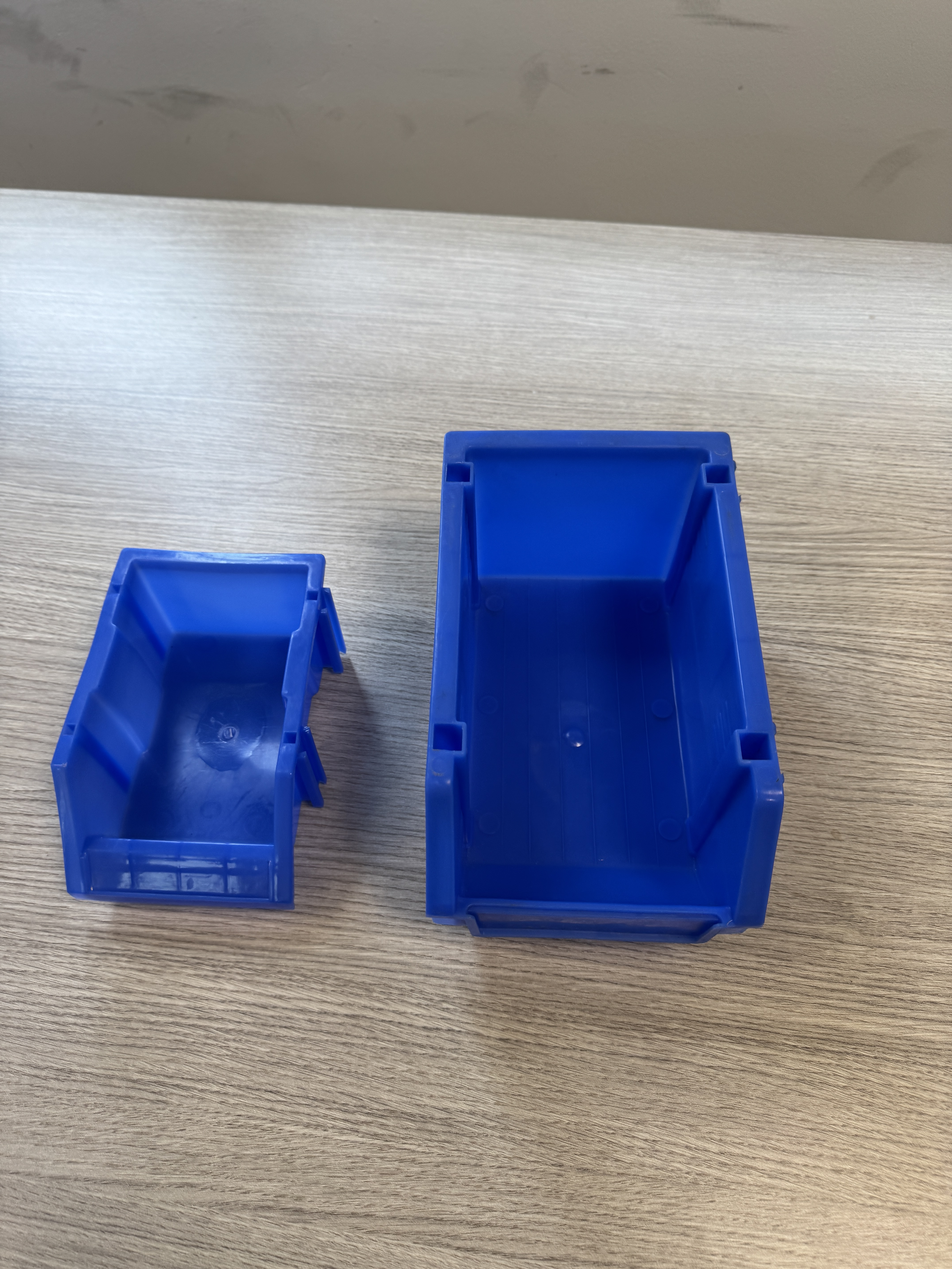Bin Boundary: (452, 444, 764, 908), (67, 559, 309, 847)
